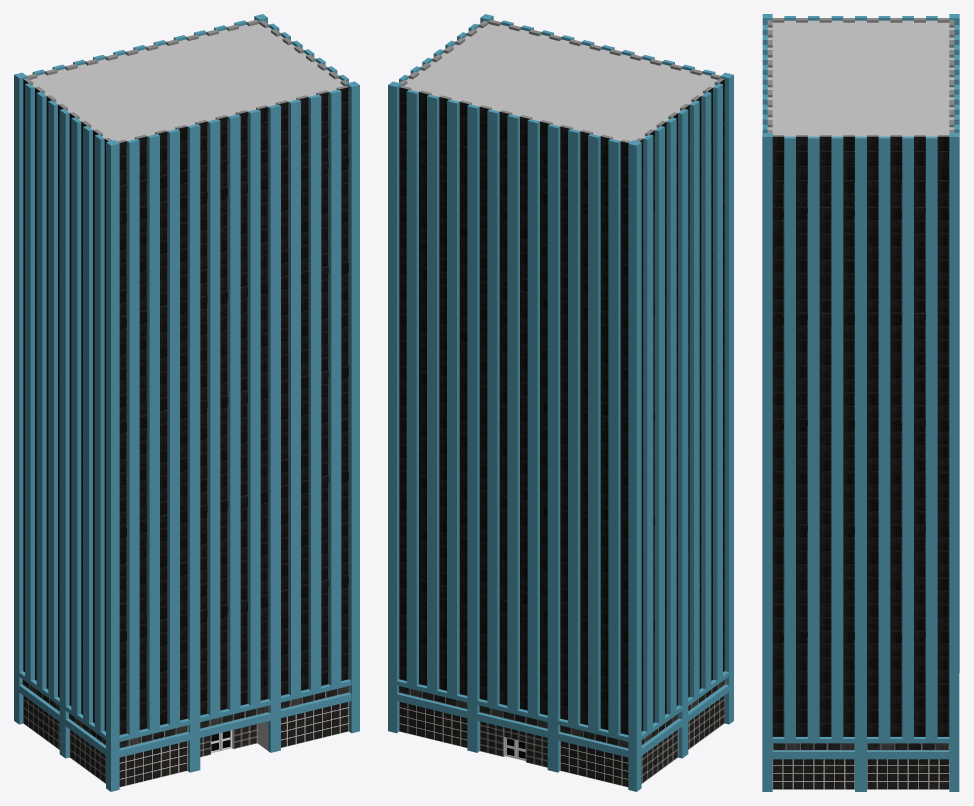
Rendered from Office-02.fbx.
3 views of the same model, side by side, from view 1: azimuth 30°, elevation 25°; view 2: azimuth 150°, elevation 25°; view 3: azimuth 270°, elevation 25° (orthographic).
Parts seen in each view (by area): view 1: Building; view 2: Building; view 3: Building.
Part boxes in pixels (x1,y1,x2,y2): Building: (14, 14, 359, 791); Building: (388, 14, 733, 791); Building: (762, 14, 959, 791).
Size of what is drawn, in the model's own units: 29.92 by 74.2 by 20.23.
